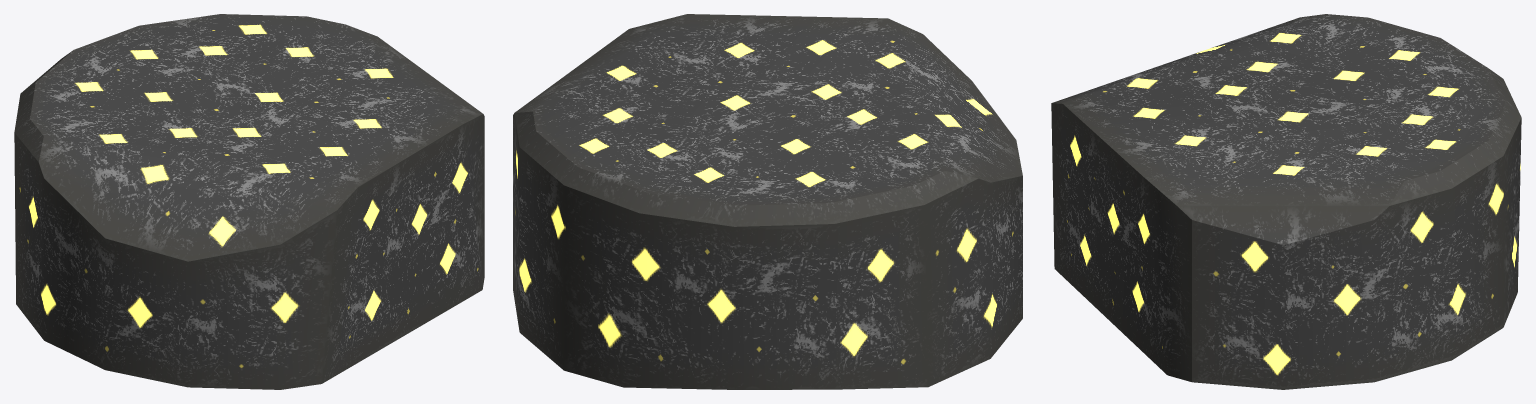
The model's file is CorePieceToInspect_Sprayed.fbx.
3 renders of one model, left to right at view 1: azimuth 30°, elevation 25°; view 2: azimuth 150°, elevation 25°; view 3: azimuth 270°, elevation 25°, orthographic. The views are drawn at different scales.
Visible parts, largest first — view 1: SprayedCore; view 2: SprayedCore; view 3: SprayedCore.
Boxes of the visible parts, x1=… form: SprayedCore: x1=14, y1=14, x2=484, y2=389; SprayedCore: x1=513, y1=14, x2=1022, y2=389; SprayedCore: x1=1051, y1=14, x2=1521, y2=389.
Bounding box in the file's own units: 200 × 85.56 × 197.
